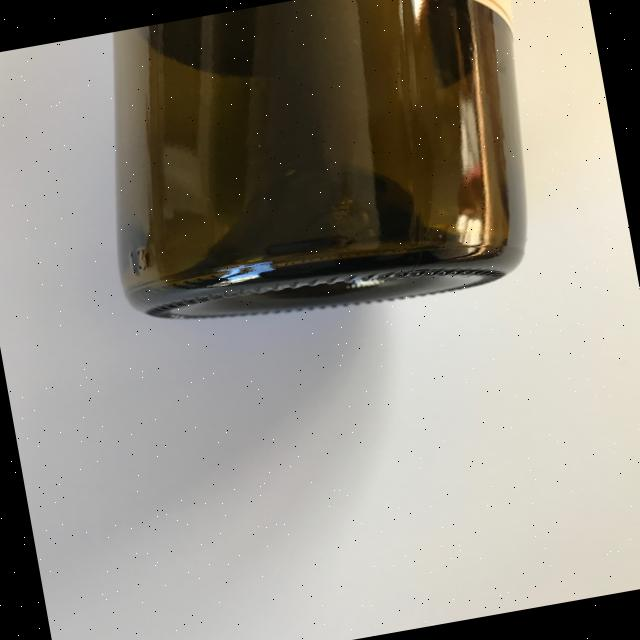glass: (76, 0, 558, 347)
